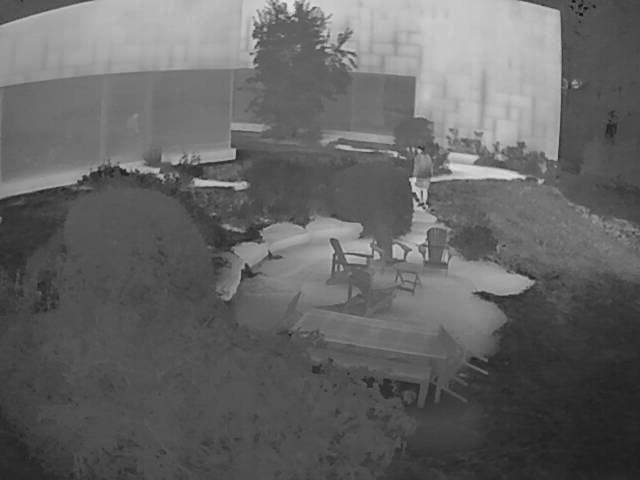person: (414, 144, 433, 216)
